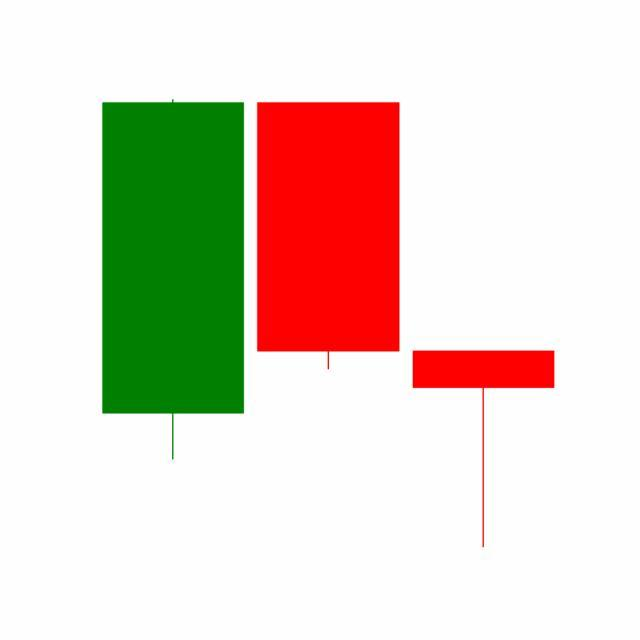Marubozu: (250, 99, 407, 373)
